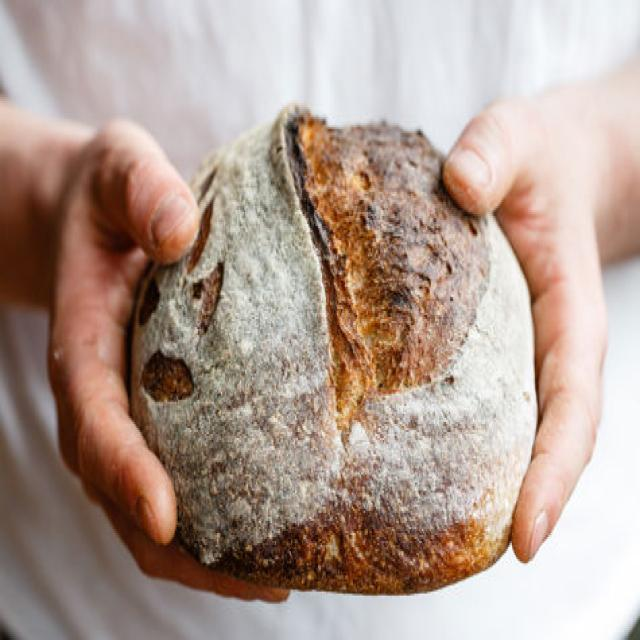Maltese-Bread: (129, 109, 535, 596)
